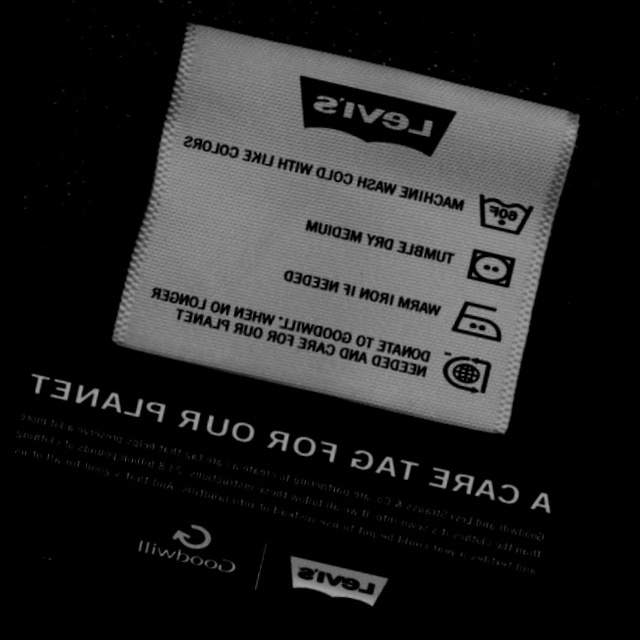30C: (460, 175, 546, 252)
iron_medium: (438, 284, 519, 357)
tumble_dry_medium: (453, 236, 529, 303)
